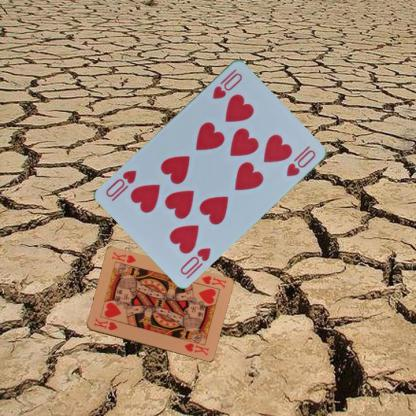10h: (178, 245, 214, 276), (210, 70, 244, 100)
Kh: (199, 273, 227, 290), (91, 315, 118, 332)
